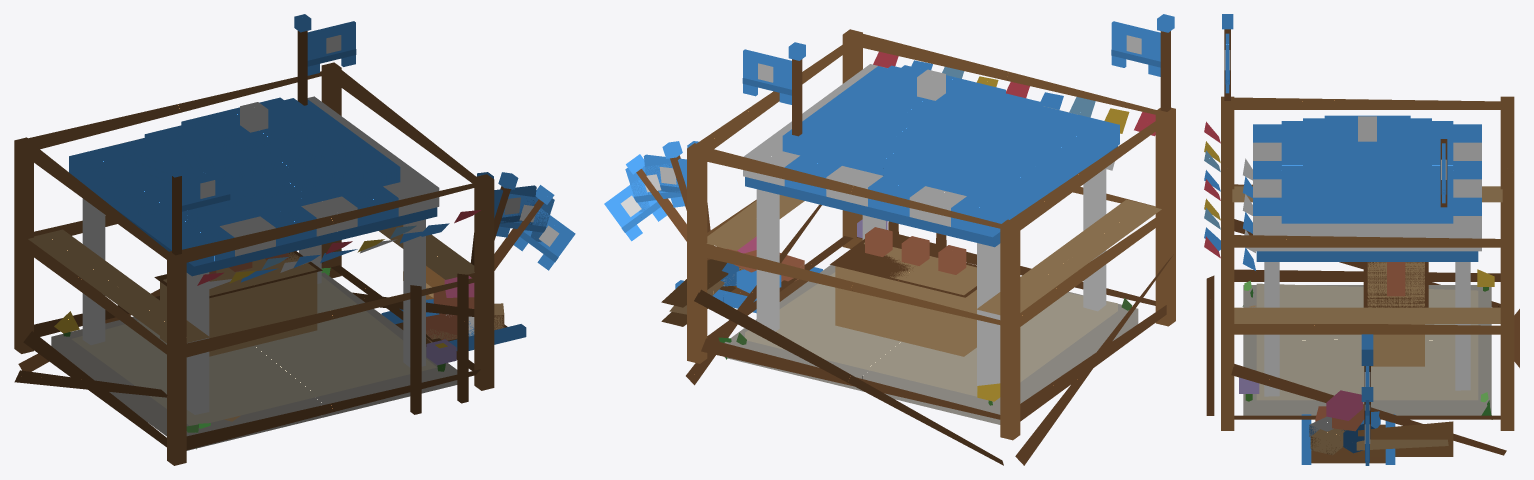
Rendered from butterfly-producer_lod1.glb.
The picture shows the model from 3 angles, left to right: view 1: azimuth 30°, elevation 25°; view 2: azimuth 150°, elevation 25°; view 3: azimuth 270°, elevation 25°; orthographic projection. The views are drawn at different scales.
Visible parts, largest first — view 1: scaffold-mesh, built-mesh, dismantle-75-mesh, dismantle-50-mesh, dismantle-25-mesh, banner, scaffold-banner, dismantle-25-banner, dismantle-50-banner, flag-pole, scaffold-flag-pole, dismantle-25-flag-pole (+2 smaller); view 2: scaffold-mesh, built-mesh, dismantle-75-mesh, dismantle-50-mesh, scaffold-banner, banner, dismantle-25-mesh, dismantle-25-banner, dismantle-50-banner, scaffold-flag-pole, flag-pole, dismantle-75-banner (+2 smaller); view 3: scaffold-mesh, built-mesh, dismantle-75-mesh, dismantle-50-mesh, dismantle-25-mesh, flag-pole, scaffold-flag-pole, scaffold-banner.
Part boxes in pixels (left/top/right/bottom): scaffold-mesh: left=14, top=62, right=494, bottom=465; built-mesh: left=53, top=96, right=457, bottom=450; dismantle-75-mesh: left=51, top=198, right=507, bottom=435; dismantle-50-mesh: left=51, top=267, right=526, bottom=435; dismantle-25-mesh: left=51, top=276, right=525, bottom=435; banner: left=307, top=21, right=356, bottom=75; scaffold-banner: left=182, top=166, right=230, bottom=220; dismantle-25-banner: left=514, top=208, right=575, bottom=270; dismantle-50-banner: left=496, top=194, right=554, bottom=242; flag-pole: left=294, top=14, right=311, bottom=105; scaffold-flag-pole: left=168, top=159, right=185, bottom=255; dismantle-25-flag-pole: left=494, top=185, right=554, bottom=270; scaffold-mesh: left=661, top=29, right=1175, bottom=465; built-mesh: left=718, top=64, right=1119, bottom=424; dismantle-75-mesh: left=721, top=161, right=1138, bottom=387; dismantle-50-mesh: left=675, top=218, right=1137, bottom=409; scaffold-banner: left=1111, top=21, right=1160, bottom=76; banner: left=742, top=49, right=791, bottom=104; dismantle-25-mesh: left=675, top=236, right=1138, bottom=384; dismantle-25-banner: left=604, top=178, right=667, bottom=241; dismantle-50-banner: left=625, top=163, right=684, bottom=212; scaffold-flag-pole: left=1157, top=14, right=1174, bottom=111; flag-pole: left=788, top=42, right=805, bottom=136; dismantle-75-banner: left=643, top=154, right=686, bottom=194; scaffold-mesh: left=1204, top=96, right=1519, bottom=456; built-mesh: left=1242, top=115, right=1491, bottom=415; dismantle-75-mesh: left=1242, top=158, right=1492, bottom=463; dismantle-50-mesh: left=1243, top=283, right=1491, bottom=464; dismantle-25-mesh: left=1244, top=280, right=1489, bottom=464; flag-pole: left=1438, top=123, right=1449, bottom=207; scaffold-flag-pole: left=1222, top=14, right=1233, bottom=100; scaffold-banner: left=1224, top=33, right=1230, bottom=93.
Size of the model in its own units: 2.69 by 1.73 by 1.65.
